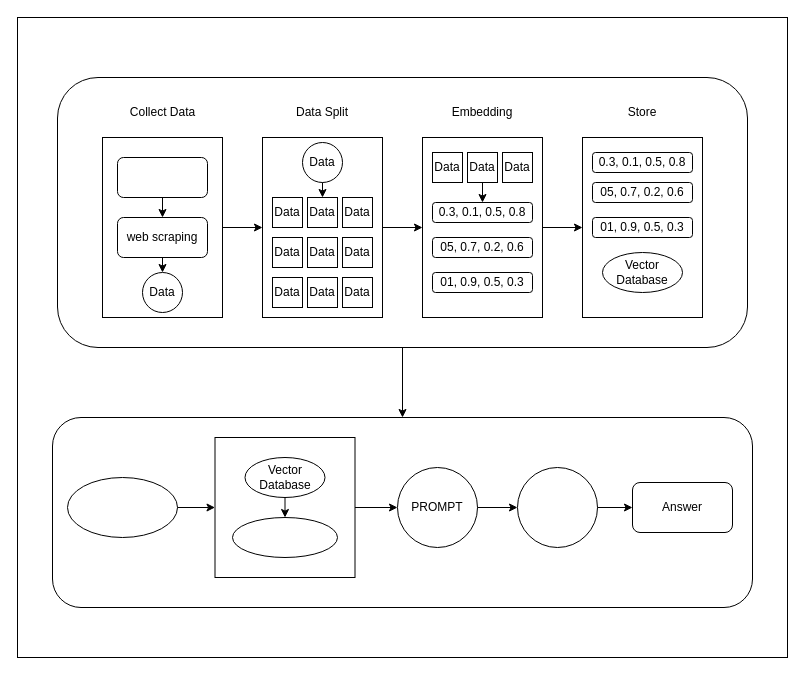
This 805x675 diagram has some shape labels left out. The centre of each missing label's shape, as x and y in pixels:
LLM MODEL: point 557,507
Question: point 122,507
similarity search: point 285,537
website: point 162,177
